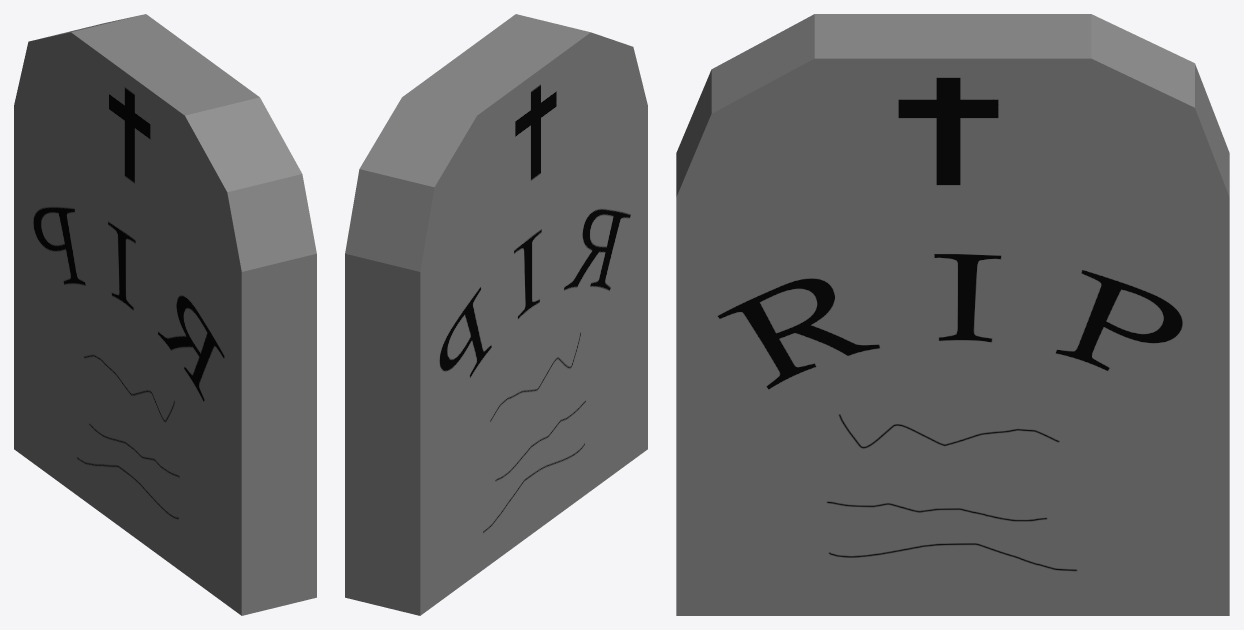
The model's file is gravestone.fbx.
3 renders of one model, left to right at view 1: azimuth 30°, elevation 25°; view 2: azimuth 150°, elevation 25°; view 3: azimuth 270°, elevation 25°, orthographic. The views are drawn at different scales.
Visible parts, largest first — view 1: Cube; view 2: Cube; view 3: Cube.
Boxes of the visible parts, left/top/right/bottom form: Cube: left=14, top=14, right=316, bottom=615; Cube: left=345, top=14, right=647, bottom=615; Cube: left=676, top=14, right=1229, bottom=615.
Bounding box in the file's own units: 34.28 × 200 × 180.
